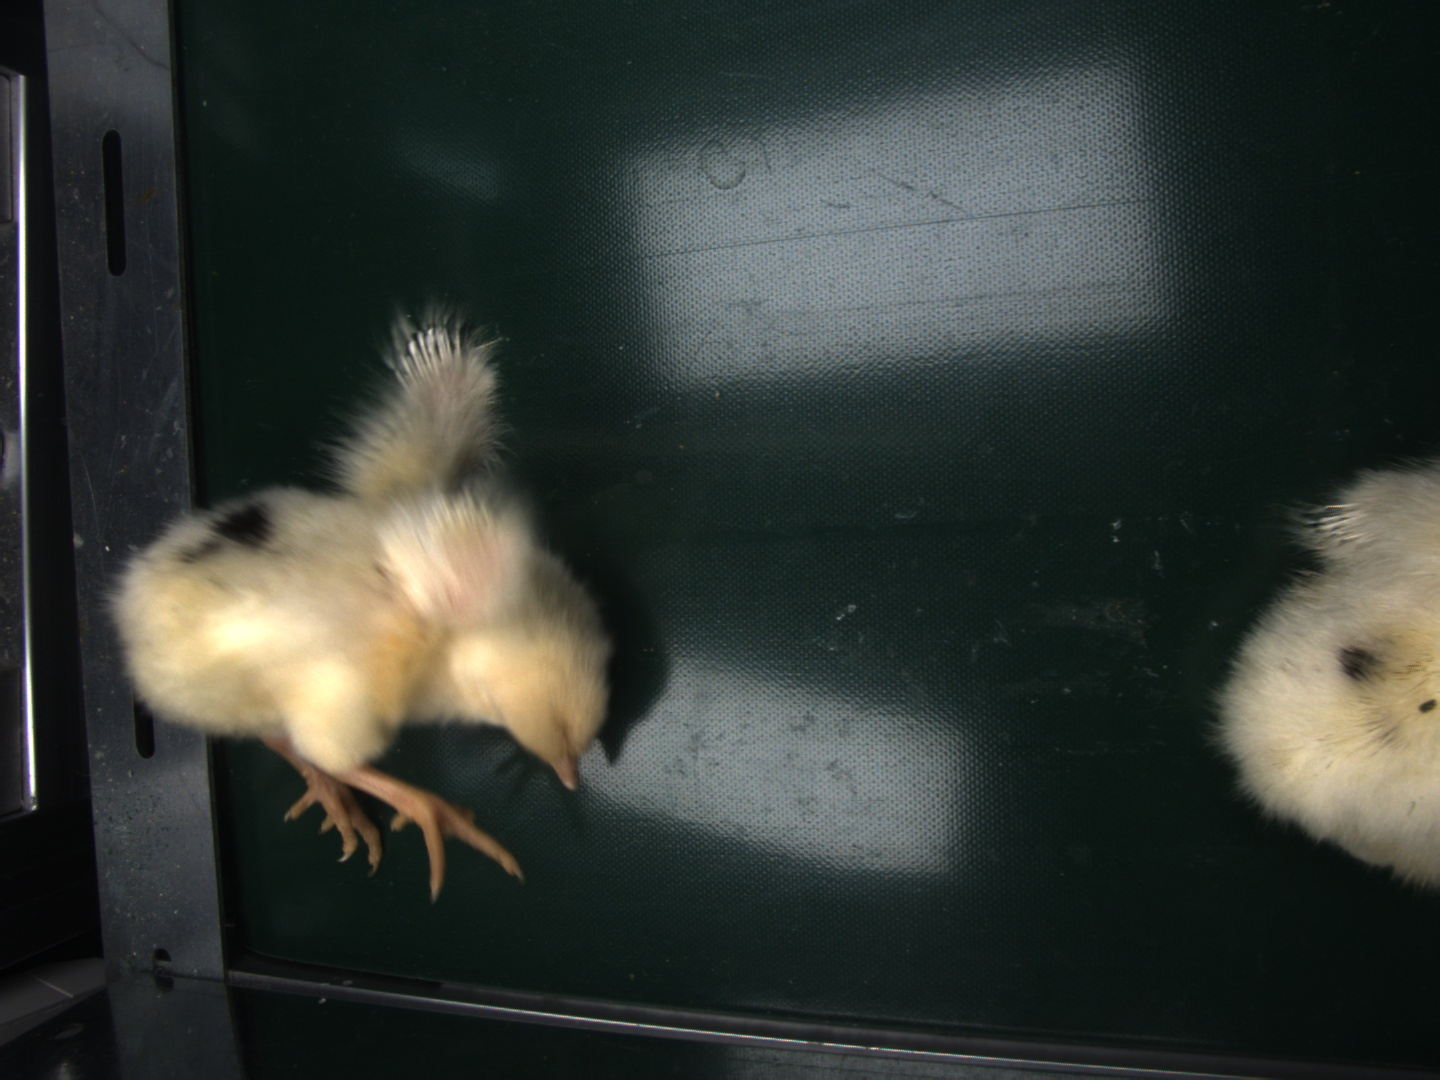male: (399, 320, 469, 391)
